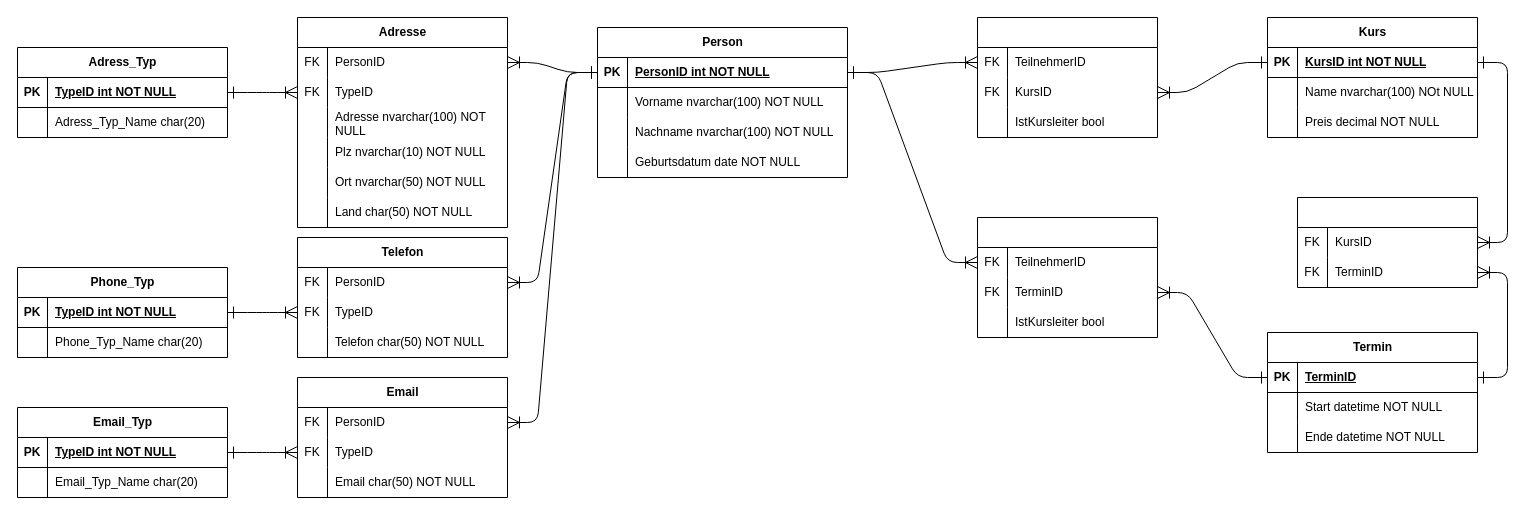
Some shapes in this 1538 by 515 pixel diagram are drawn without their labels. Here are the shapes that lost their labels. From the top down, the box of each, then its label:
(976, 16, 1158, 138): Teilnehmer_Kurs
(1296, 196, 1478, 288): Kurs_Termin
(976, 216, 1158, 338): Teilnehmer_Termin
